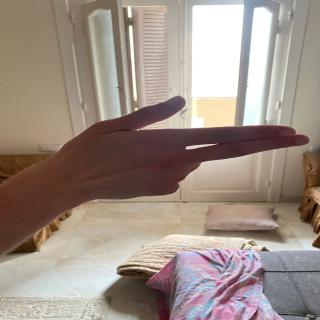GHAYN: (42, 87, 320, 202)
